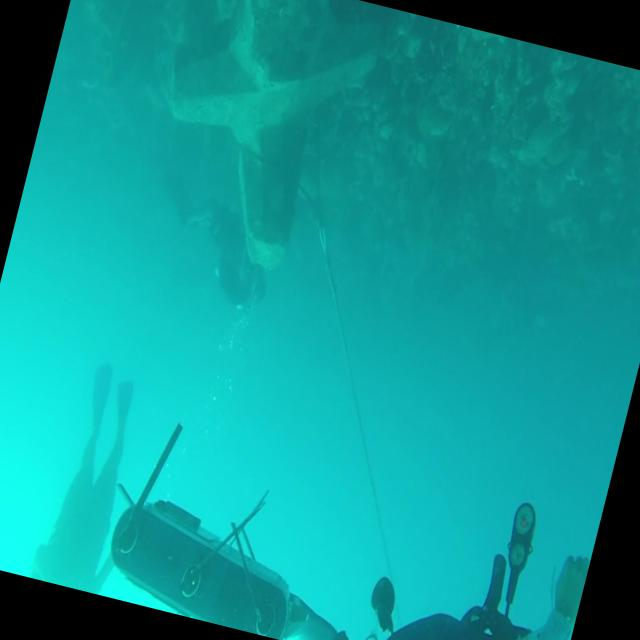human: (314, 461, 599, 640), (28, 358, 160, 596), (198, 103, 320, 320)
